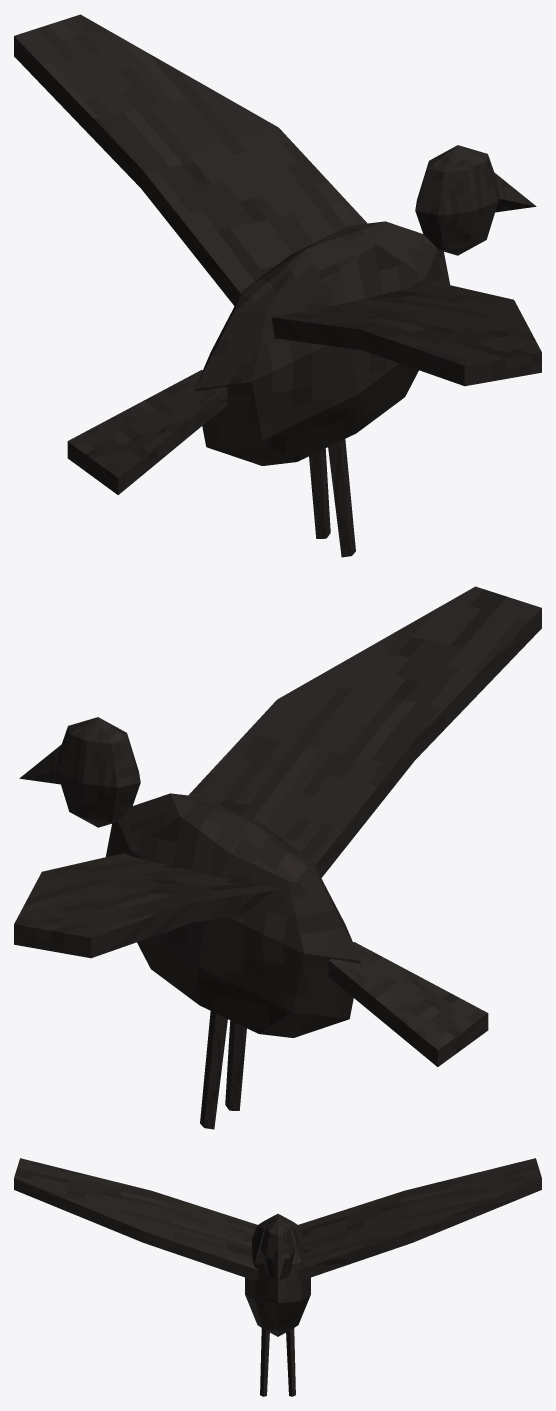
The model's file is cuervo.glb.
3 renders of one model, top to bottom at view 1: azimuth 30°, elevation 25°; view 2: azimuth 150°, elevation 25°; view 3: azimuth 270°, elevation 25°, orthographic. The views are drawn at different scales.
Visible parts, largest first — view 1: ala_izq, cuerpo, ala_der, cola, cabeza, patas, pico; view 2: ala_der, cuerpo, ala_izq, cola, cabeza, patas, pico; view 3: ala_der, ala_izq, cuerpo, cabeza, patas.
Part boxes in pixels (x1,y1,x2,y2): ala_izq: (14, 14, 367, 305); cuerpo: (195, 221, 449, 465); ala_der: (271, 281, 541, 386); cola: (67, 370, 227, 494); cabeza: (415, 145, 499, 255); patas: (309, 439, 355, 557); pico: (494, 172, 536, 212); ala_der: (188, 586, 541, 877); cuerpo: (106, 793, 360, 1037); ala_izq: (14, 853, 284, 958); cola: (328, 942, 488, 1066); cabeza: (56, 717, 140, 827); patas: (200, 1011, 246, 1129); pico: (19, 744, 61, 784); ala_der: (14, 1158, 258, 1281); ala_izq: (297, 1158, 541, 1281); cuerpo: (245, 1214, 310, 1336); cabeza: (260, 1217, 295, 1280); patas: (260, 1328, 295, 1396).
Bounding box in the file's own units: 0.5 × 0.4 × 0.9.
1 material, 1 textured.
